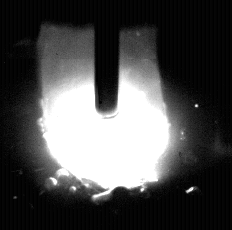arame: (95, 0, 120, 120)
poca: (41, 0, 172, 230)
